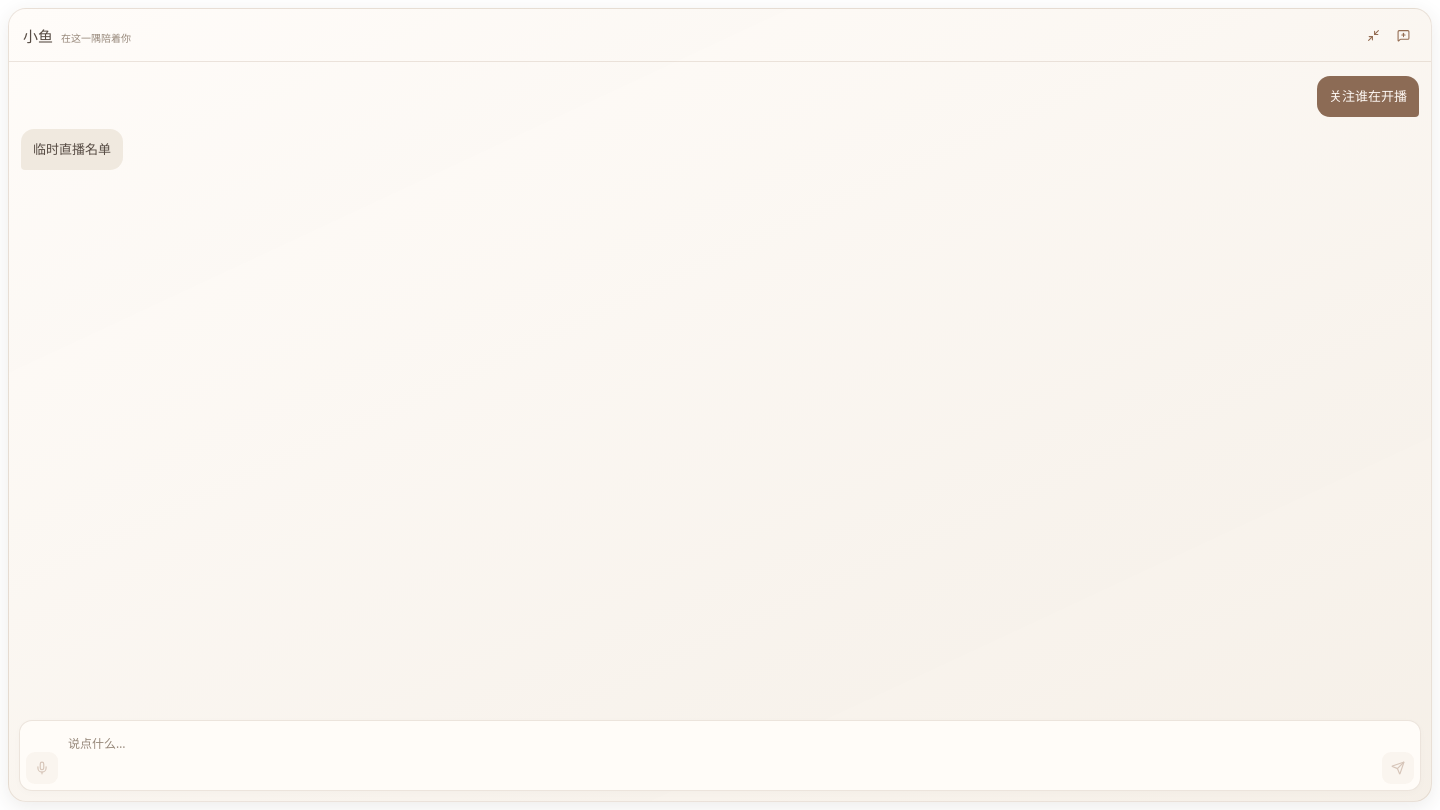
lightweight conversation › shows private transient replies after streams clear and removes them for a new conversation
Expected: the text "关注谁在开播" is shown, [1329,85,1407,108]
Expected: the text "临时直播名单" is shown, [33,138,111,161]
Click the button named "新对话" at (1403, 35), box [1389,21,1417,49]
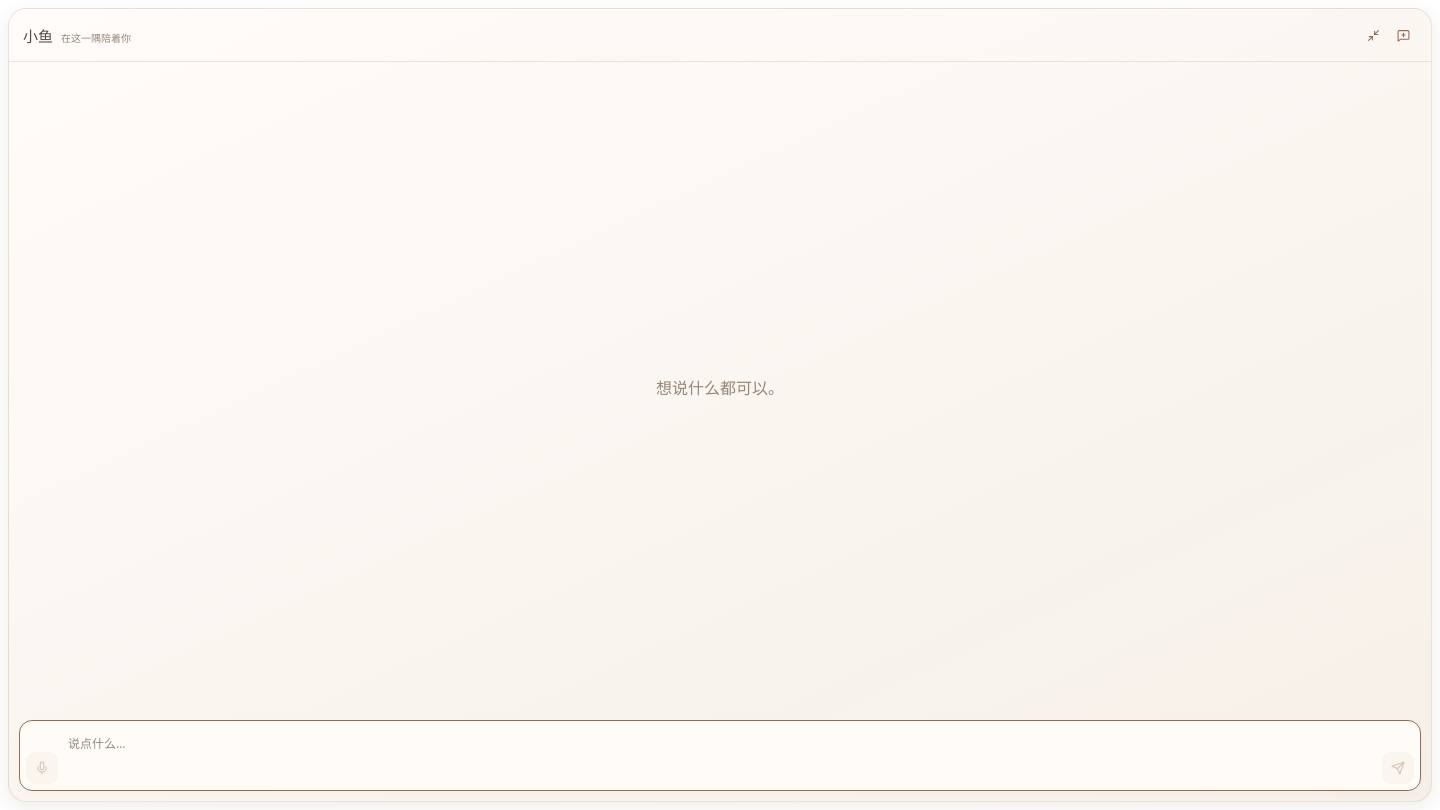
Expected: the text "临时直播名单" is gone
